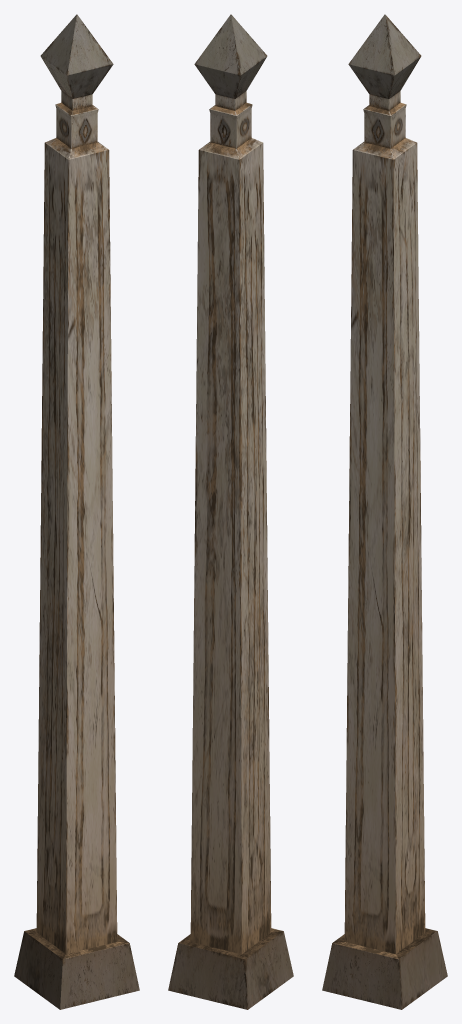
The model's file is bridge_pillar.fbx.
The picture shows the model from 3 angles, left to right: view 1: azimuth 30°, elevation 25°; view 2: azimuth 150°, elevation 25°; view 3: azimuth 330°, elevation 25°; orthographic projection.
Visible parts, largest first — view 1: Object022; view 2: Object022; view 3: Object022.
Boxes of the visible parts, x1,y1,x2,y2 form: Object022: [14, 14, 139, 1009]; Object022: [168, 14, 293, 1009]; Object022: [322, 14, 447, 1009].
Bounding box in the file's own units: 20.94 × 243 × 20.94.
